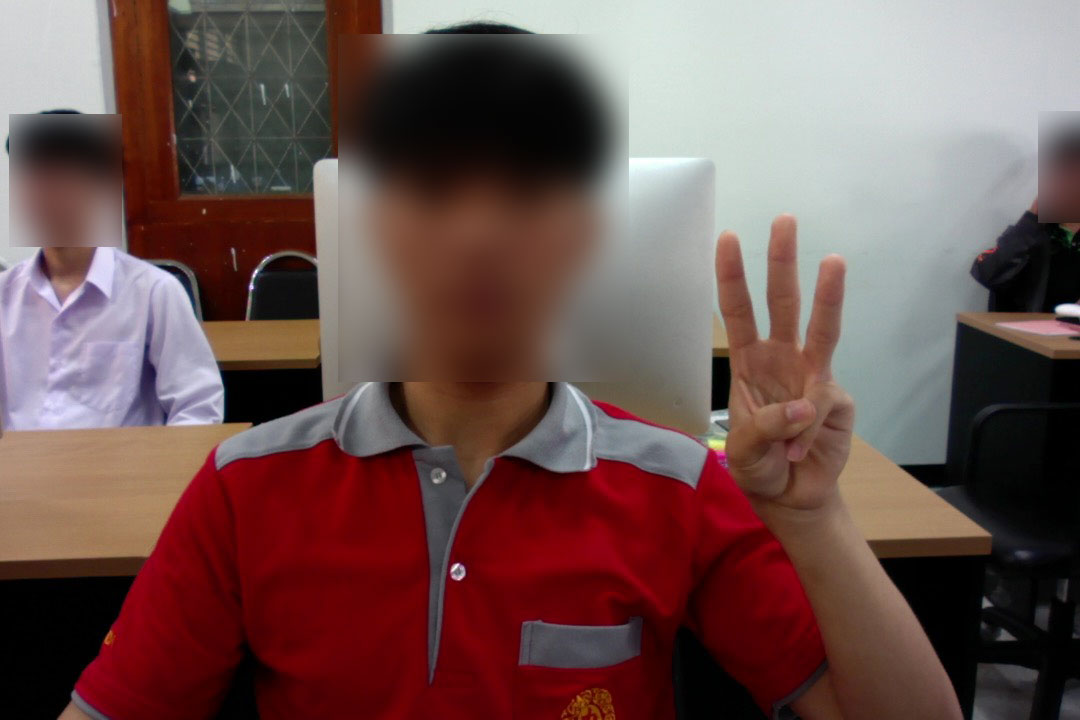wor: (703, 210, 872, 516)
